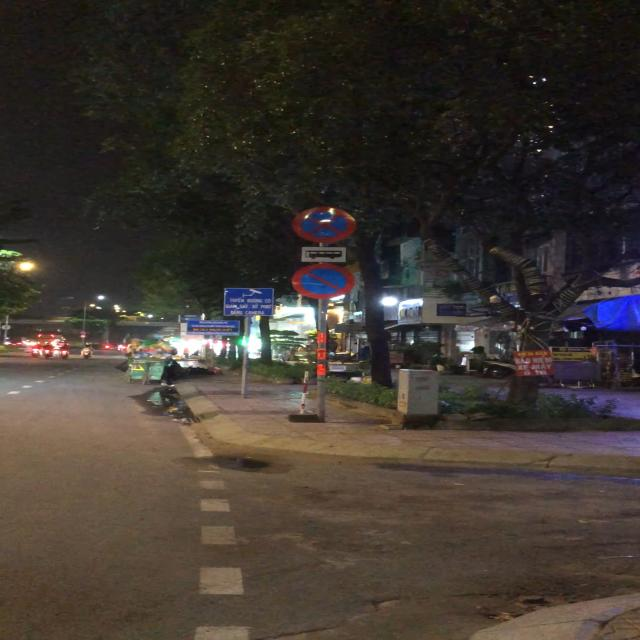Bien bao cam do xe: (288, 263, 353, 300)
Bien bao cam dung xe va do xe: (290, 205, 358, 245)
